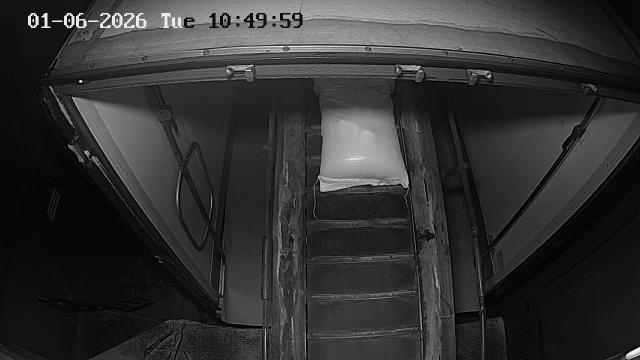bag: (319, 79, 408, 192)
